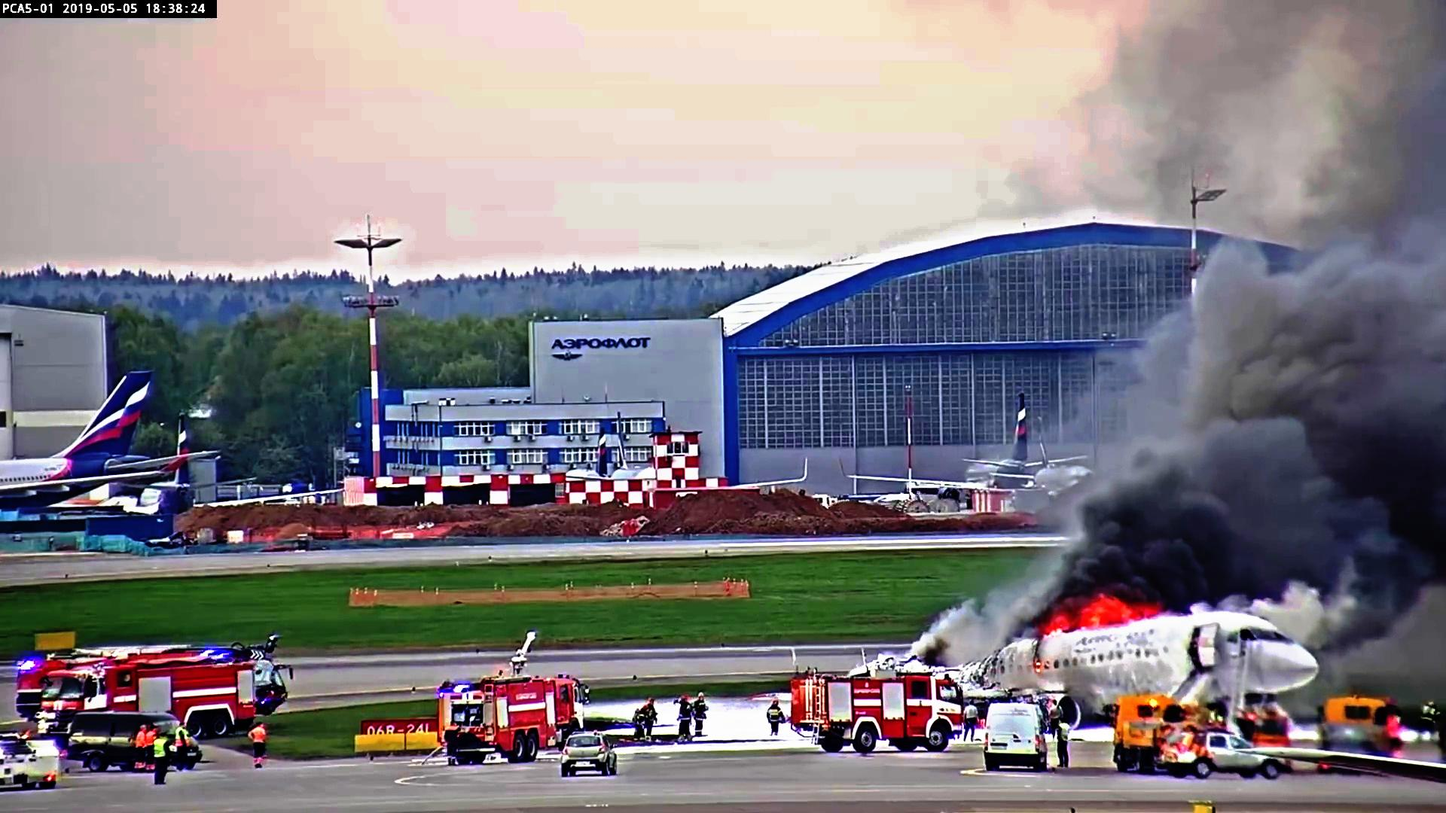fire: (1051, 596, 1145, 636)
smoke: (1192, 245, 1446, 572), (1060, 460, 1230, 596)
